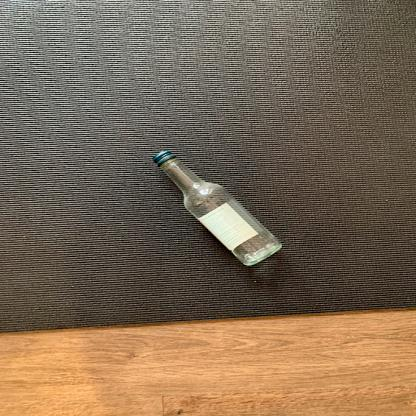trash: (150, 151, 286, 268)
